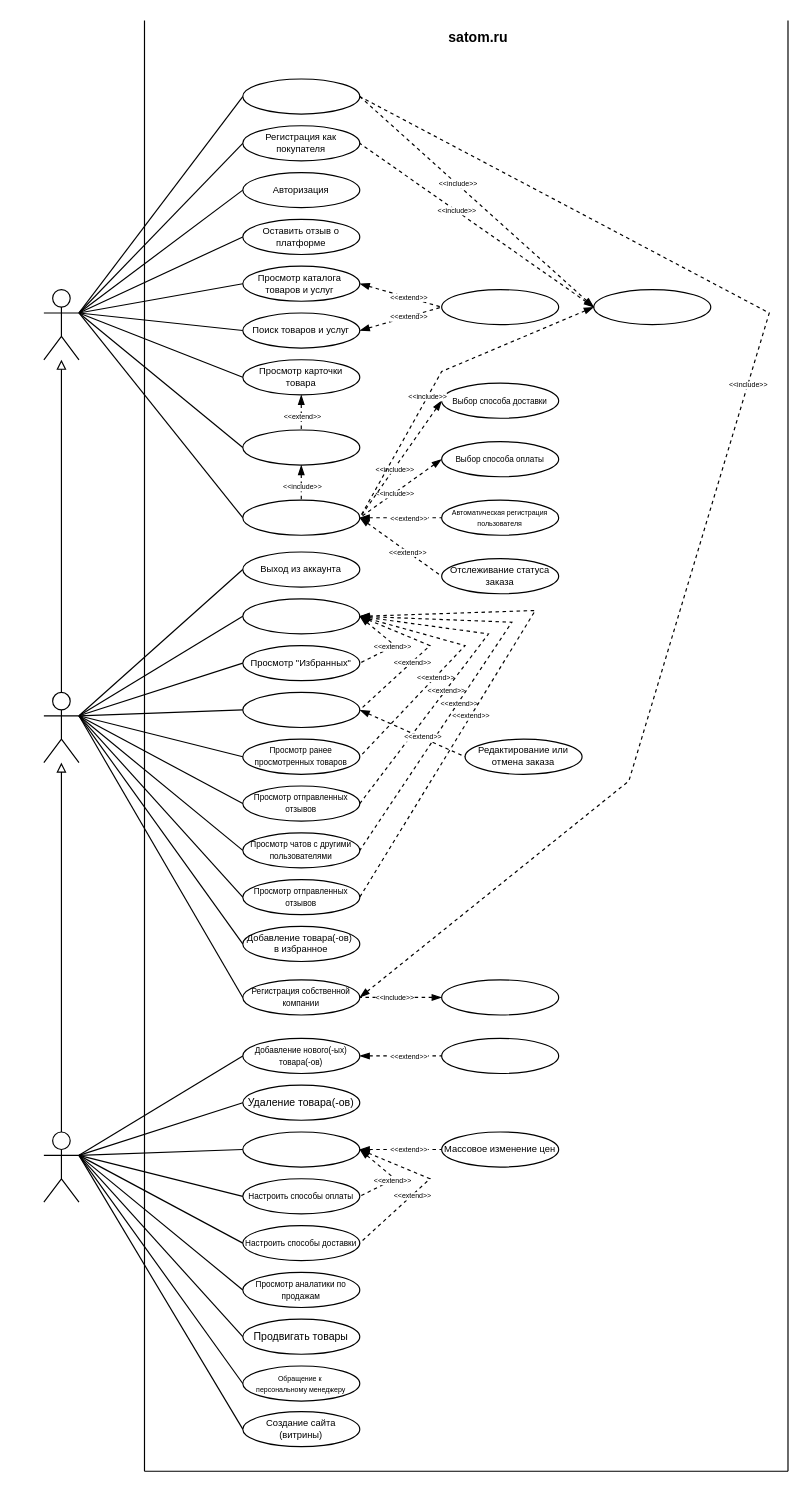
Image size: 810x1493. Some labels were removed from this diagram. The centre of each missing label's shape, as x and y in pixels:
Авторизованный покупатель: (61,727)
Авторизованный продавец: (61,1166)
Ввод данных компании: (500,997)
Ввод личных данных: (652,306)
Добавление товара в корзину: (301,447)
Импорт товаров из файла: (500,1055)
Использование фильтров: (500,306)
Неавторизованный пользователь: (61,324)
Оформление заказа: (301,517)
Просмотр заказов: (301,709)
Просмотр личного кабинета: (301,616)
Регистрация как продавца: (301,96)
Редактирование товара(-ов): (301,1149)
